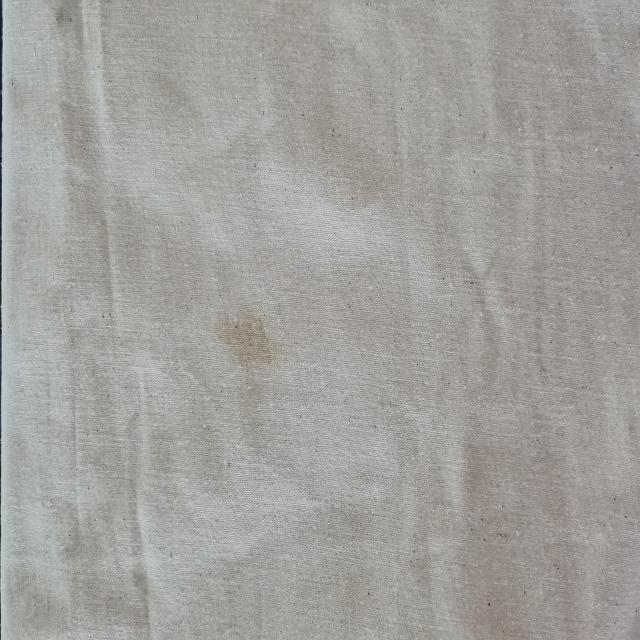taaaches: (211, 292, 283, 390)
